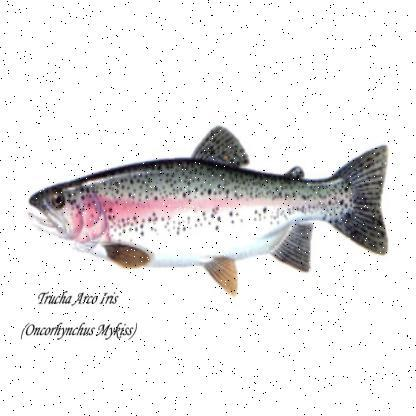fish: (28, 127, 390, 293)
